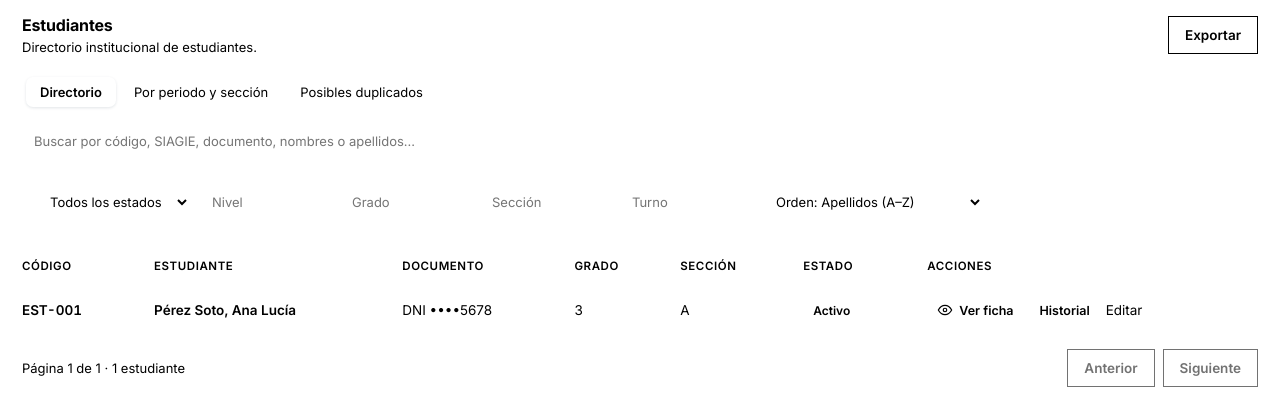
Test case: Directorio — posibles duplicados (estudiantes.update) › muestra los grupos para revisión humana, con documento enmascarado y enlace a cada ficha
Check: the text "EST-001" is shown, box [0,283,140,337]
Click the tab "Posibles duplicados" at (362, 92), box [286,77,437,107]
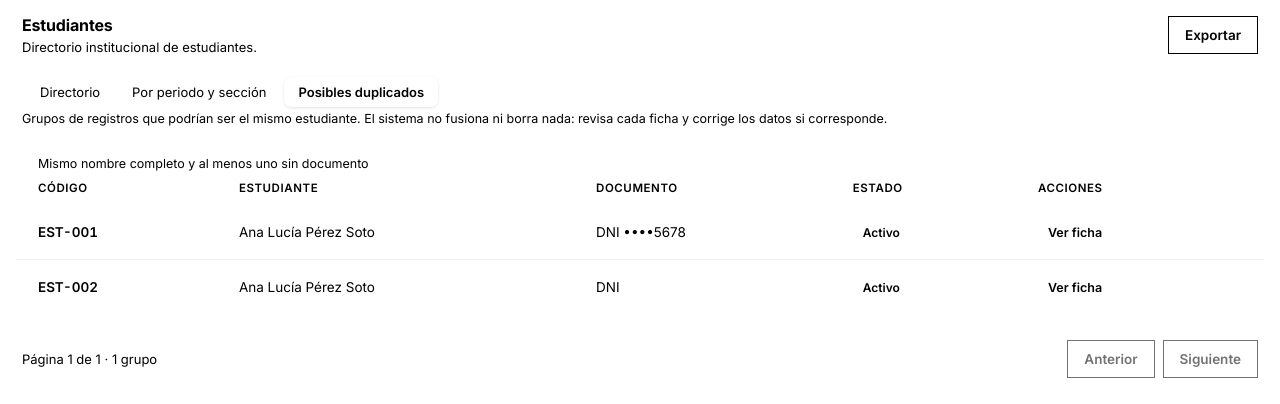
Check: the text "DNI ••••5678" is shown, box [582,205,839,260]
Check: the text "Mismo nombre completo y al menos uno sin documento" is shown, box [38,156,369,171]
Check: the text "no fusiona ni borra nada" is shown, box [22,111,887,126]
